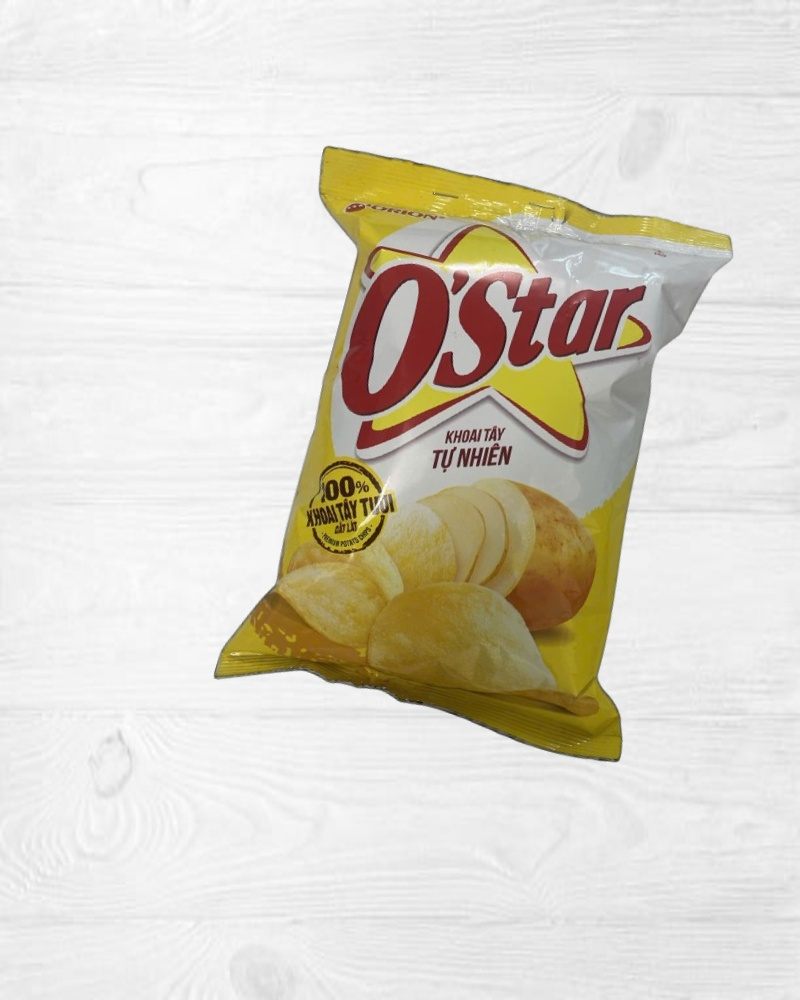O'star: (186, 129, 758, 785)
